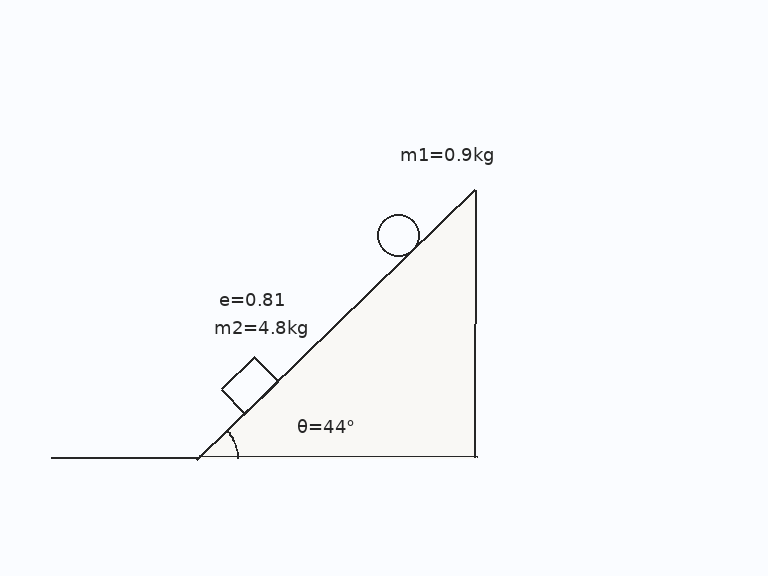ball: (375, 212, 421, 258)
block: (219, 355, 280, 415)
ramp: (196, 188, 478, 460)
